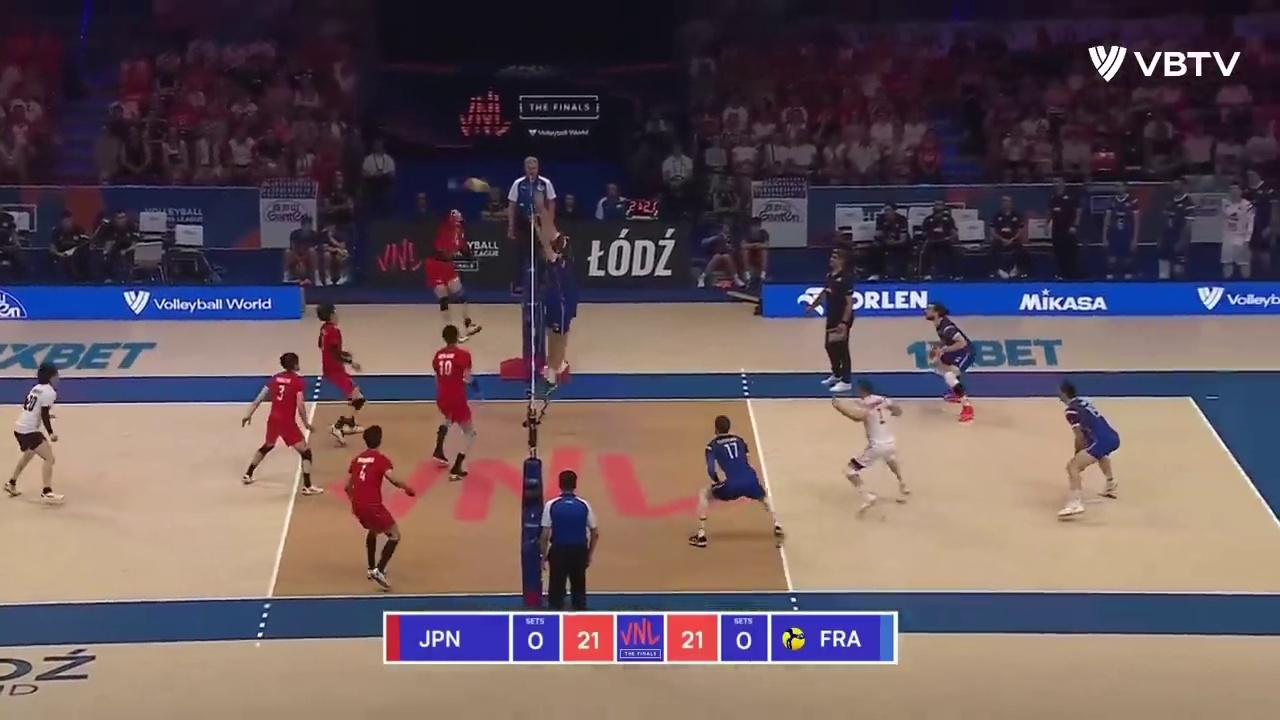ball: (464, 179, 491, 195)
